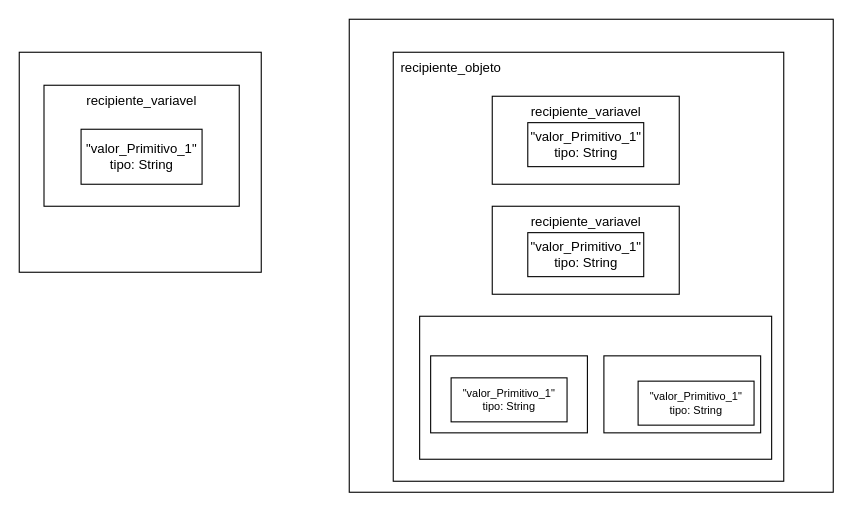
Some shapes in this 853 by 512 pixel diagram are drawn without their labels. The shapes that lost their labels are listed below. From the top down, each one's box as (x1, y1, x2, y2) in pixels, then its label:
(18, 51, 261, 272): espacoMemoria
(348, 18, 833, 492): espaco_Memoria
(430, 355, 587, 433): recipiente_Metodo_1
(419, 315, 772, 459): recipiente__proto__
(603, 355, 761, 433): recipiente_Metodo_2
